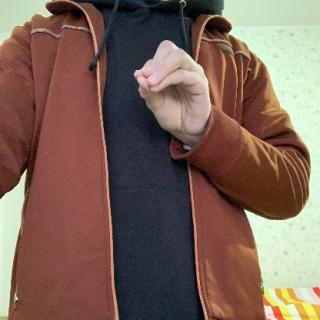HA: (133, 34, 214, 146)
